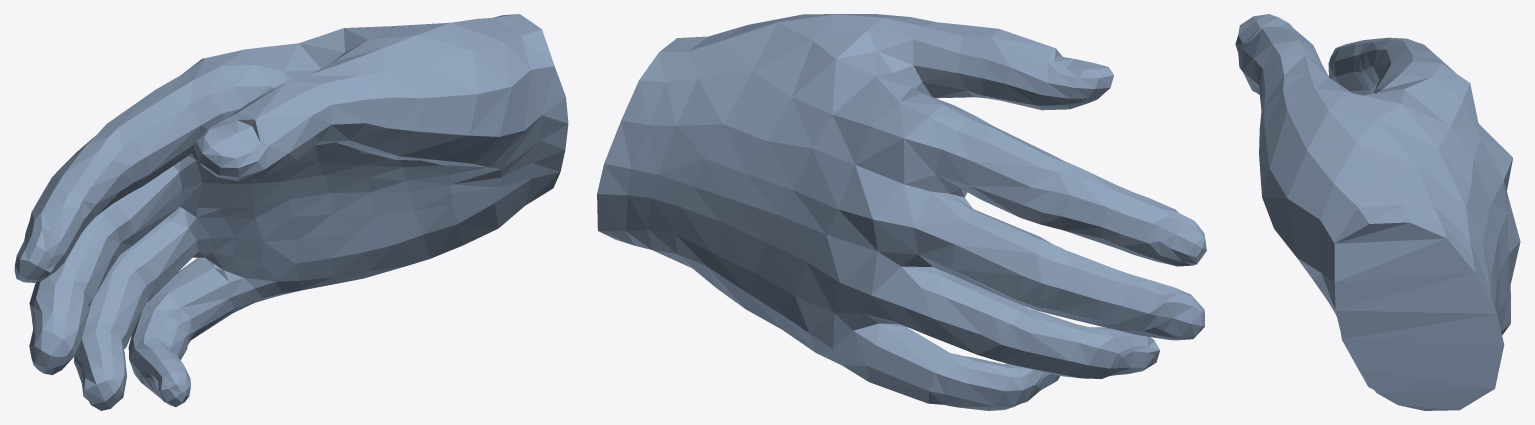
File: frame_00013_0.obj
The picture shows the model from 3 angles, left to right: view 1: azimuth 30°, elevation 25°; view 2: azimuth 150°, elevation 25°; view 3: azimuth 270°, elevation 25°; orthographic projection. The views are drawn at different scales.
Bounding box in the file's own units: 0.1762 × 0.0999 × 0.0798.
